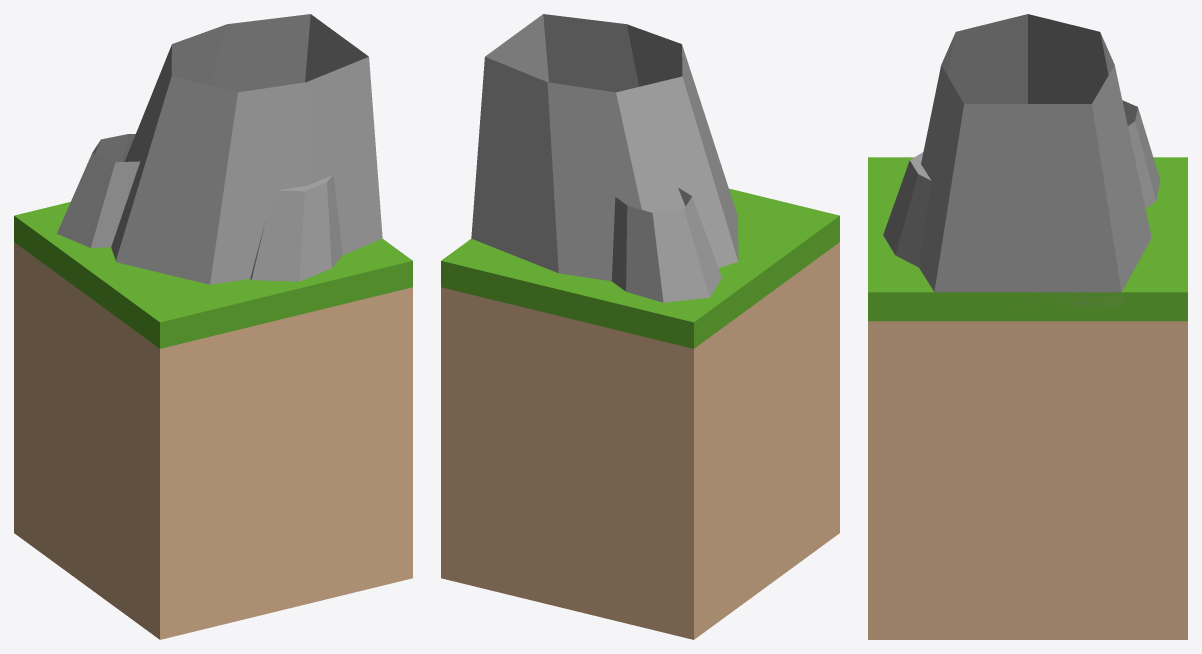
File: Mountains1.fbx
3 views of the same model, side by side, from view 1: azimuth 30°, elevation 25°; view 2: azimuth 150°, elevation 25°; view 3: azimuth 270°, elevation 25° (orthographic). The views are drawn at different scales.
Parts seen in each view (by area): view 1: Cube, Cylinder; view 2: Cube, Cylinder; view 3: Cube, Cylinder.
Boxes of the visible parts, x1,y1,x2,y2 form: Cube: (14, 202, 412, 639); Cylinder: (57, 14, 382, 284); Cube: (441, 188, 839, 639); Cylinder: (471, 14, 738, 302); Cube: (868, 157, 1187, 639); Cylinder: (883, 14, 1160, 306).
Size of the model in its own units: 100 by 185 by 100.
